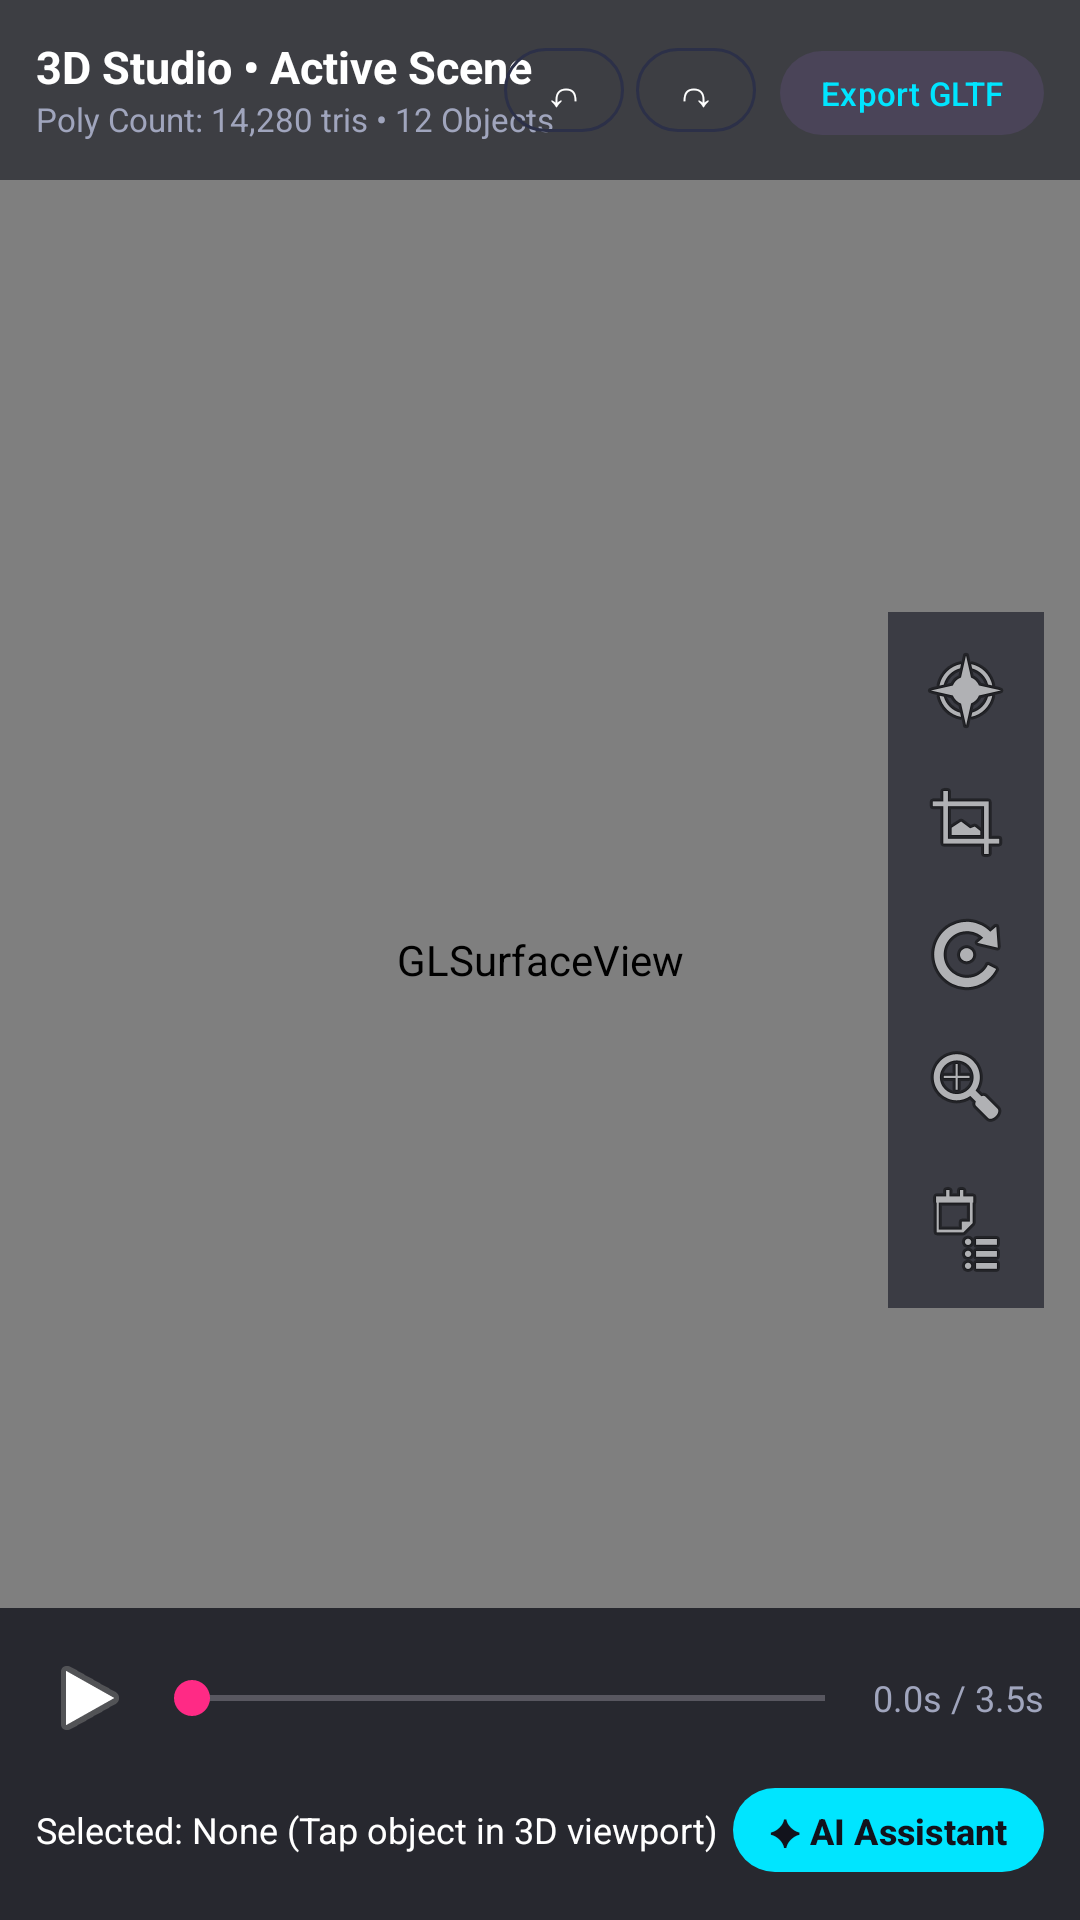

Where to tap for icons on this 1080*1920 app screen, as [x,y]:
play: [90,1698]
Rotate: [966,954]
